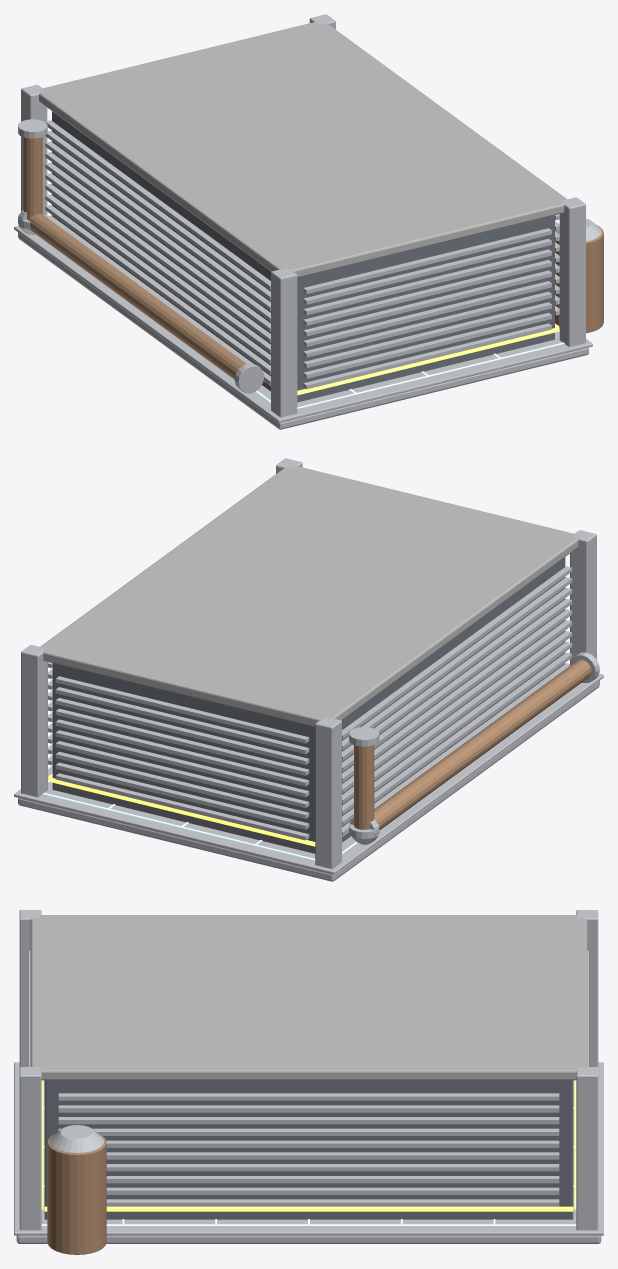
Rendered from mech_4x6_office.glb.
3 renders of one model, top to bottom at view 1: azimuth 30°, elevation 25°; view 2: azimuth 150°, elevation 25°; view 3: azimuth 270°, elevation 25°, orthographic. The views are drawn at different scales.
Visible parts, largest first — view 1: int_ceiling, ext_louver2, ext_core, ext_louver3, int_columns, int_slab_edge, ext_bigpipe, int_slab, ext_tank, ext_bigpipe2, ext_mech_glow, ext_bigpipe_fl0 (+1 smaller); view 2: int_ceiling, ext_core, ext_louver2, ext_louver1, int_columns, int_slab_edge, ext_bigpipe, int_slab, ext_bigpipe2, ext_mech_glow, int_grid; view 3: int_ceiling, ext_louver0, ext_core, int_columns, int_slab_edge, ext_tank, int_slab, ext_mech_glow, ext_tank_cap, int_grid.
Boxes of the visible parts, <box> form: int_ceiling: <box>38,21,566,277</box>; ext_louver2: <box>45,120,270,385</box>; ext_core: <box>52,111,554,402</box>; ext_louver3: <box>303,228,551,389</box>; int_columns: <box>21,14,585,417</box>; int_slab_edge: <box>14,225,592,422</box>; ext_bigpipe: <box>27,214,246,379</box>; int_slab: <box>18,232,588,429</box>; ext_tank: <box>555,225,603,332</box>; ext_bigpipe2: <box>23,137,42,218</box>; ext_mech_glow: <box>264,323,559,395</box>; ext_bigpipe_fl0: <box>234,363,264,393</box>; int_ceiling: <box>40,464,578,726</box>; ext_core: <box>52,557,565,853</box>; ext_louver2: <box>342,566,572,836</box>; ext_louver1: <box>55,676,309,840</box>; int_columns: <box>21,458,596,868</box>; int_slab_edge: <box>14,673,603,874</box>; ext_bigpipe: <box>374,659,591,830</box>; int_slab: <box>18,680,599,881</box>; ext_bigpipe2: <box>354,745,374,829</box>; ext_mech_glow: <box>48,773,348,846</box>; int_grid: <box>43,779,357,860</box>; int_ceiling: <box>30,915,587,1080</box>; ext_louver0: <box>58,1093,559,1206</box>; ext_core: <box>44,1080,573,1219</box>; int_columns: <box>19,910,598,1230</box>; int_slab_edge: <box>14,1062,603,1235</box>; ext_tank: <box>47,1134,106,1254</box>; int_slab: <box>16,1235,601,1243</box>; ext_mech_glow: <box>41,1080,576,1211</box>; ext_tank_cap: <box>49,1125,104,1153</box>; int_grid: <box>41,1107,576,1225</box>.
Size of the model in its own units: 5.1 by 2 by 6.36.
